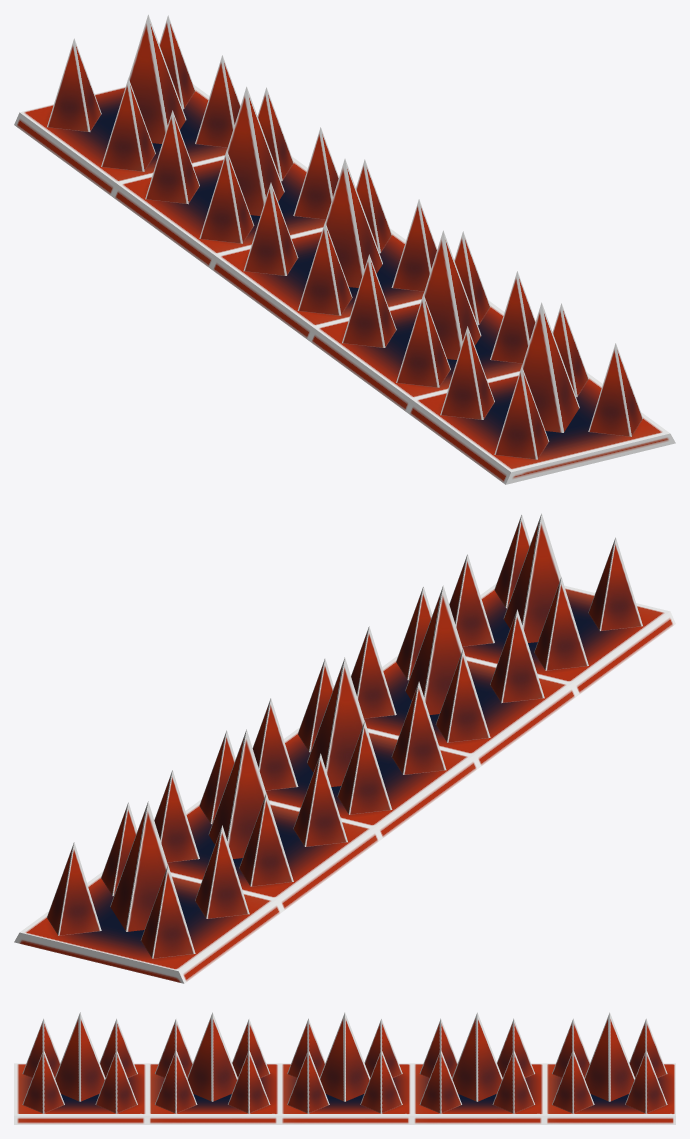
File: MG-ChJ-CS-10JianCi-5.FBX
3 views of the same model, one above another, from view 1: azimuth 30°, elevation 25°; view 2: azimuth 150°, elevation 25°; view 3: azimuth 270°, elevation 25° (orthographic). The views are drawn at different scales.
Parts seen in each view (by area): view 1: MG-ChJ-CS-10JianCi-5; view 2: MG-ChJ-CS-10JianCi-5; view 3: MG-ChJ-CS-10JianCi-5.
Boxes of the visible parts, x1,y1,x2,y2 form: MG-ChJ-CS-10JianCi-5: (14,14,675,484); MG-ChJ-CS-10JianCi-5: (14,513,675,983); MG-ChJ-CS-10JianCi-5: (14,1012,675,1124).
Bounding box in the file's own units: 39.37 × 27.87 × 197.
